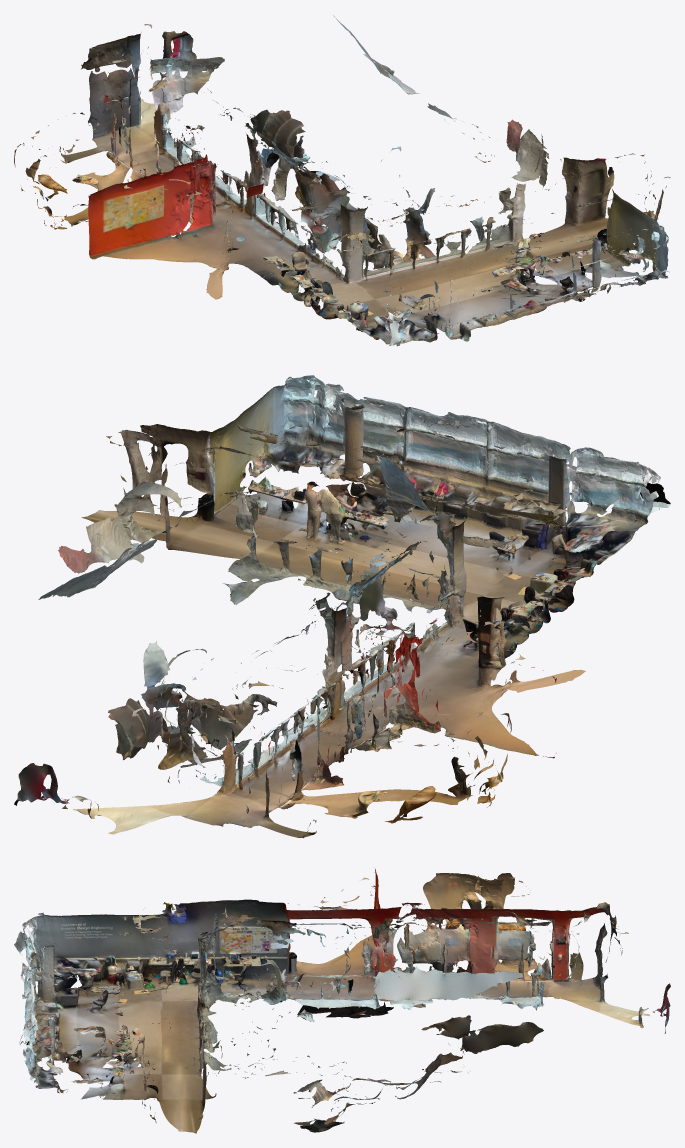
File: room.glb
The picture shows the model from 3 angles, top to bottom: view 1: azimuth 30°, elevation 25°; view 2: azimuth 150°, elevation 25°; view 3: azimuth 270°, elevation 25°; orthographic projection. The views are drawn at different scales.
Bounding box in the file's own units: 20.69 × 8.11 × 26.87.
Materials: 4 (4 with a texture image).
